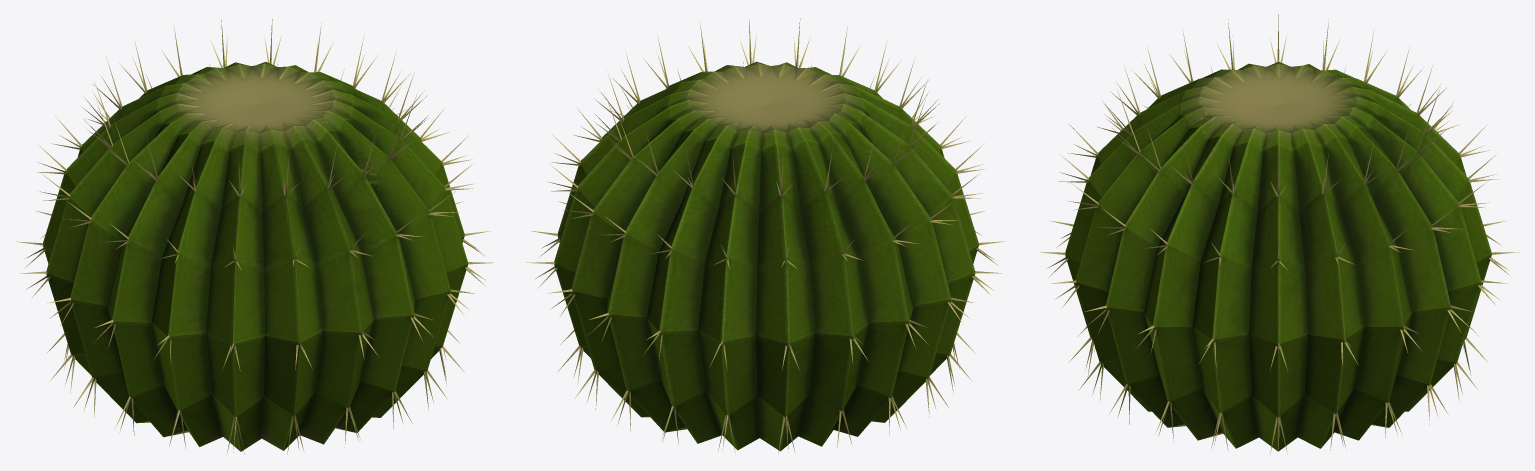
File: cactus-barrel.glb
3 views of the same model, side by side, from view 1: azimuth 30°, elevation 25°; view 2: azimuth 150°, elevation 25°; view 3: azimuth 270°, elevation 25° (orthographic).
Visible parts, largest first — view 1: BarrelCactus_mesh; view 2: BarrelCactus_mesh; view 3: BarrelCactus_mesh.
Boxes of the visible parts, x1,y1,x2,y2 form: BarrelCactus_mesh: [16, 19, 493, 454]; BarrelCactus_mesh: [526, 18, 1005, 453]; BarrelCactus_mesh: [1040, 14, 1519, 455].
Bounding box in the file's own units: 6.92 × 5.02 × 6.92.
Materials: 1 (1 with a texture image).
